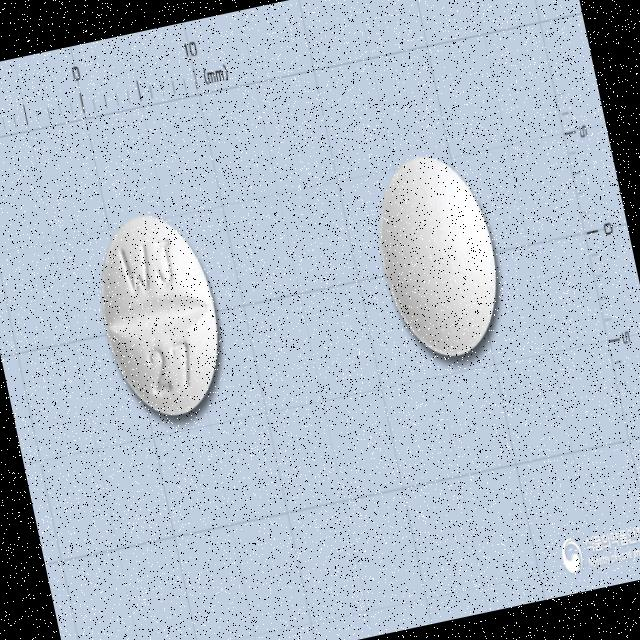Megarokshin: (362, 144, 514, 368), (85, 204, 236, 428)
